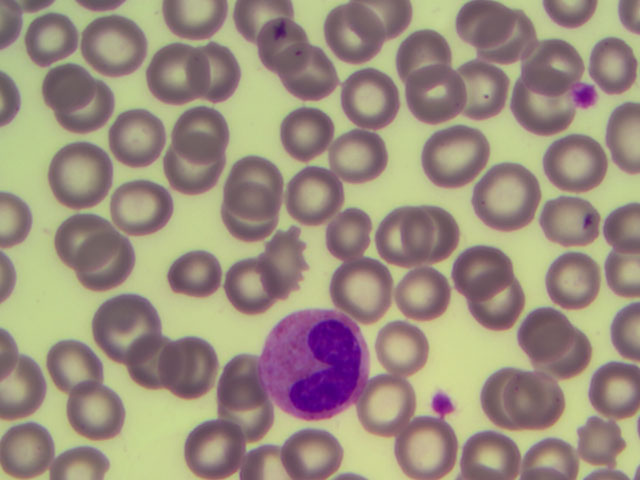Platelets: (574, 77, 599, 113), (433, 390, 452, 415)
RBC: (272, 419, 331, 480), (530, 419, 589, 480), (458, 419, 517, 480), (401, 419, 460, 480), (24, 6, 83, 66), (82, 14, 141, 74), (38, 54, 97, 114), (60, 78, 119, 138), (107, 109, 166, 169), (144, 38, 203, 98), (184, 43, 243, 103), (242, 11, 301, 71), (282, 38, 341, 98), (324, 6, 383, 66), (403, 27, 462, 87), (408, 73, 467, 133), (343, 66, 402, 126), (328, 126, 387, 186), (280, 102, 339, 162), (283, 165, 342, 225), (226, 151, 285, 211), (215, 191, 274, 251), (164, 149, 223, 209), (169, 92, 228, 152), (115, 178, 174, 238), (80, 234, 139, 294), (49, 215, 108, 275), (50, 148, 109, 208), (95, 295, 154, 355), (117, 328, 176, 388), (154, 337, 213, 397), (213, 353, 272, 413), (216, 385, 275, 445), (193, 413, 252, 473), (356, 376, 415, 436), (377, 322, 436, 382), (334, 262, 393, 322), (319, 202, 378, 262), (367, 203, 426, 263), (399, 202, 458, 262), (398, 261, 457, 321), (457, 234, 516, 294), (475, 273, 534, 333), (494, 298, 553, 358), (536, 322, 595, 382), (581, 360, 640, 420), (573, 403, 632, 463), (470, 366, 529, 426), (500, 365, 559, 425), (77, 386, 136, 446), (50, 336, 109, 396), (456, 63, 515, 123), (423, 123, 482, 183), (481, 172, 540, 232), (539, 192, 598, 252), (545, 255, 604, 315), (551, 131, 610, 191), (504, 83, 563, 143), (521, 31, 580, 91), (494, 17, 553, 77), (457, 3, 516, 63), (581, 37, 640, 97), (1, 412, 59, 472)
WBC: (261, 308, 368, 422)
